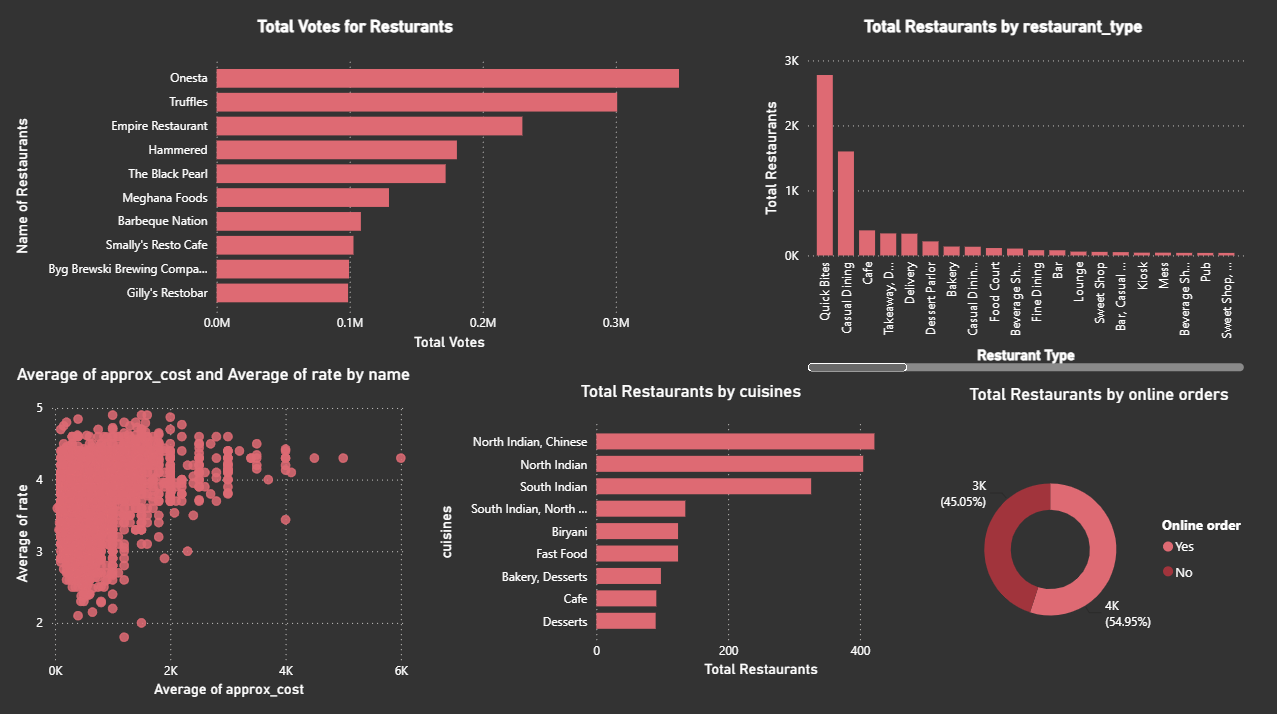

What the dashboard file says about the page in this screenshot:
{"tool":"powerbi","page":{"name":"Resturant_analysis","canvas":[1280,720],"ordinal":1},"visuals":[{"type":"clusteredBarChart","title":"Total Votes for Resturants","fields":{"Category":["cleaned_data_powerbi.name"],"Y":["cleaned_data_powerbi.Total Votes"]},"box":[10,21.2,692.5,338.8],"z":0},{"type":"scatterChart","fields":{"Category":["cleaned_data_powerbi.name"],"X":["Avg(cleaned_data_powerbi.approx_cost)"],"Y":["Avg(cleaned_data_powerbi.rate)"]},"box":[10,368.8,408.8,338.8],"z":1000},{"type":"clusteredColumnChart","fields":{"Category":["cleaned_data_powerbi.restaurant_type"],"Y":["cleaned_data_powerbi.Total Restaurants"]},"box":[758.8,21.2,491.2,360],"z":2000},{"type":"barChart","fields":{"Category":["cleaned_data_powerbi.cuisines"],"Y":["cleaned_data_powerbi.Total Restaurants"]},"box":[433.8,386.2,516.2,301.2],"z":3000},{"type":"donutChart","title":"Total Restaurants by online orders","fields":{"Category":["cleaned_data_powerbi.online_order"],"Y":["cleaned_data_powerbi.Total Restaurants"]},"box":[935,388.8,330,301.2],"z":4000}]}

Visuals, with their boxes in screenshot pixels (x1, y1, x2, y2), scaled from the page's 1280x720 canvas onto the 1277x714 screenshot:
"Total Votes for Resturants" clusteredBarChart: locate(10, 21, 701, 357)
scatterChart - cleaned_data_powerbi.name x Avg(cleaned_data_powerbi.approx_cost): locate(10, 366, 418, 702)
clusteredColumnChart - cleaned_data_powerbi.restaurant_type x cleaned_data_powerbi.Total Restaurants: locate(757, 21, 1247, 378)
barChart - cleaned_data_powerbi.cuisines x cleaned_data_powerbi.Total Restaurants: locate(433, 383, 948, 682)
"Total Restaurants by online orders" donutChart: locate(933, 386, 1262, 684)
